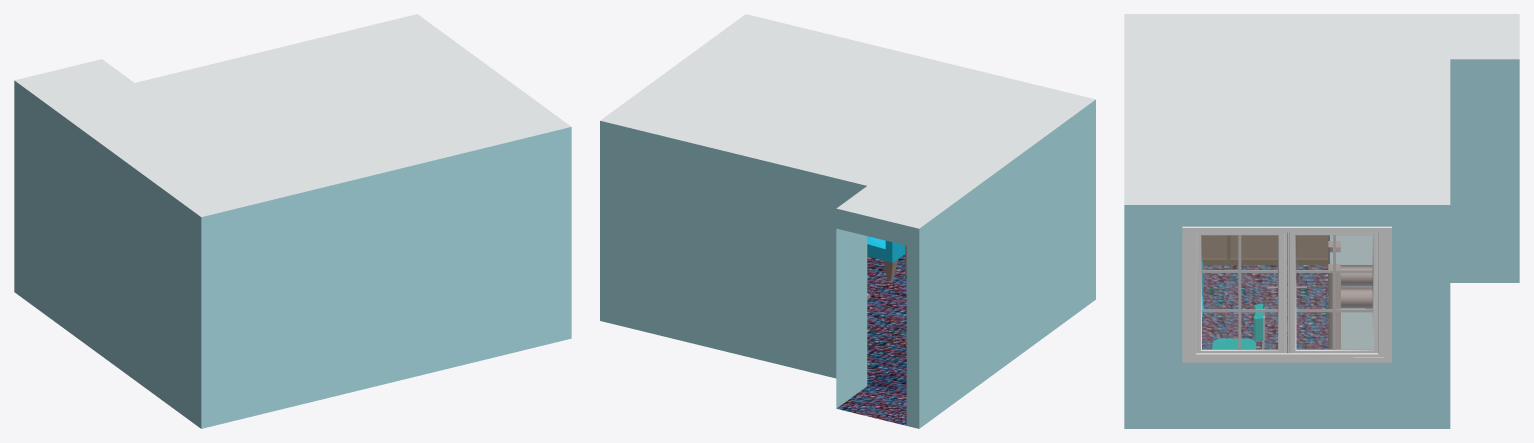
File: bedroom2_Double.fbx
The picture shows the model from 3 angles, left to right: view 1: azimuth 30°, elevation 25°; view 2: azimuth 150°, elevation 25°; view 3: azimuth 270°, elevation 25°; orthographic projection. The views are drawn at different scales.
Parts seen in each view (by area): view 1: Cube; view 2: Cube, group49029193; view 3: Cube, 16639_12_Pane_Casement_Window-White_V1, Bunkbed1, SM_Closet_02, group1245598860.
Boxes of the visible parts, x1,y1,x2,y2 form: Cube: [14, 14, 571, 428]; Cube: [600, 14, 1095, 428]; group49029193: [867, 236, 905, 262]; Cube: [1124, 14, 1519, 428]; 16639_12_Pane_Casement_Window-White_V1: [1182, 226, 1391, 362]; Bunkbed1: [1328, 235, 1372, 349]; SM_Closet_02: [1202, 233, 1327, 264]; group1245598860: [1212, 338, 1256, 349].
Size of the model in its own units: 2302 by 1250 by 2000.
